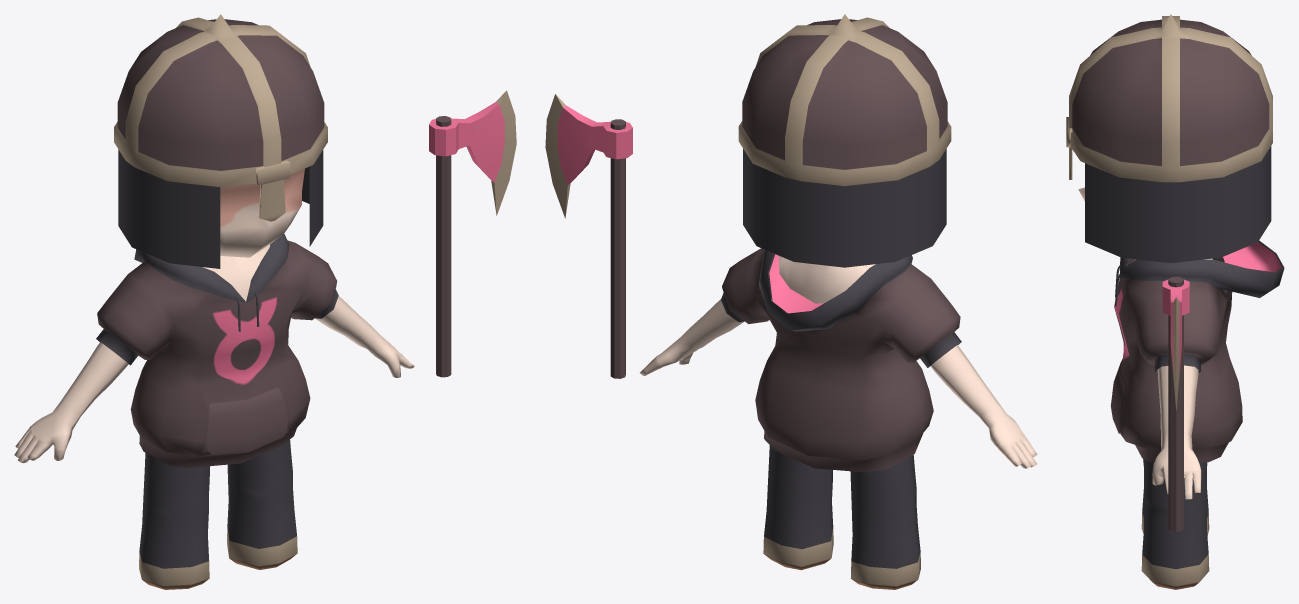
File: Stage2_Idiot1.fbx
The picture shows the model from 3 angles, left to right: view 1: azimuth 30°, elevation 25°; view 2: azimuth 150°, elevation 25°; view 3: azimuth 270°, elevation 25°; orthographic projection. The views are drawn at different scales.
Parts seen in each view (by area): view 1: polySurface75; view 2: polySurface75; view 3: polySurface75.
Part boxes in pixels (x1,y1,x2,y2): polySurface75: [14, 14, 516, 589]; polySurface75: [545, 14, 1037, 589]; polySurface75: [1066, 14, 1284, 589].
Bounding box in the file's own units: 15.58 × 16.69 × 6.08.
